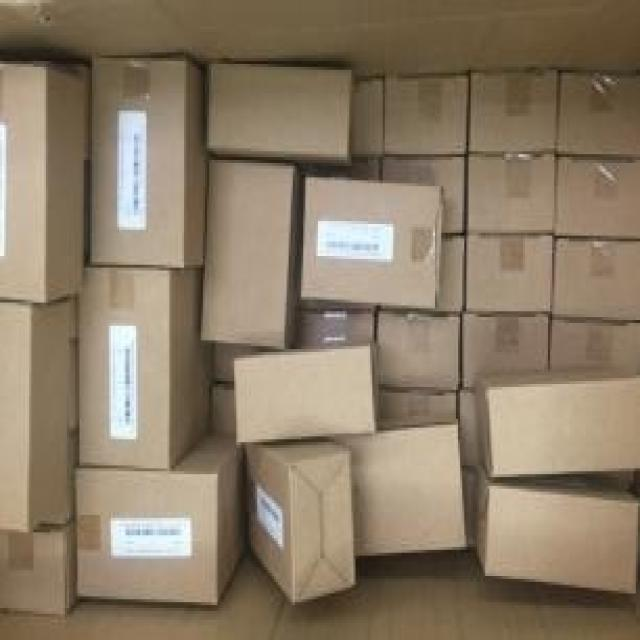box: (75, 436, 245, 605), (75, 265, 203, 468), (90, 58, 203, 268), (471, 474, 640, 596), (0, 61, 84, 303), (299, 177, 443, 311), (477, 372, 640, 480), (199, 160, 293, 346), (247, 445, 356, 602), (0, 300, 73, 532), (349, 425, 466, 556), (234, 346, 376, 445), (209, 61, 351, 157), (468, 67, 558, 154), (554, 239, 640, 323), (554, 157, 640, 239), (468, 151, 554, 233), (0, 518, 75, 611), (466, 233, 554, 311), (556, 73, 640, 154), (460, 314, 548, 390), (376, 311, 458, 390), (385, 73, 468, 151), (381, 157, 466, 233), (550, 317, 640, 369), (379, 393, 458, 425), (353, 79, 385, 151), (299, 314, 376, 343), (439, 236, 466, 311), (460, 393, 481, 471), (209, 387, 236, 442)
